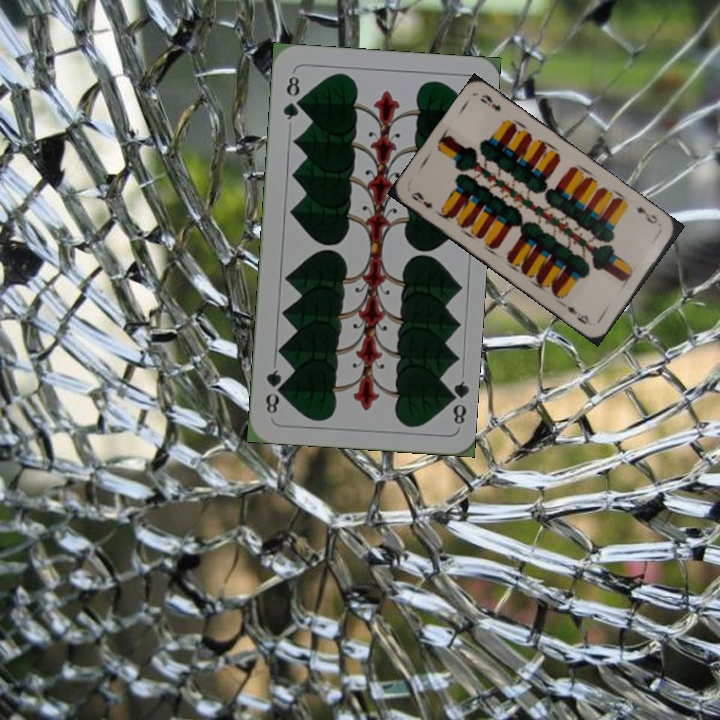E9: (632, 202, 660, 227), (407, 188, 436, 211)
G8: (442, 377, 471, 427), (279, 72, 304, 123)
